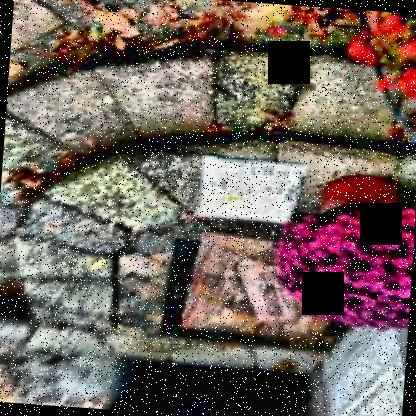no defect parcel: (178, 146, 313, 241)
